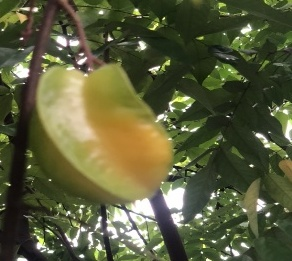Khe: (28, 61, 181, 212)
